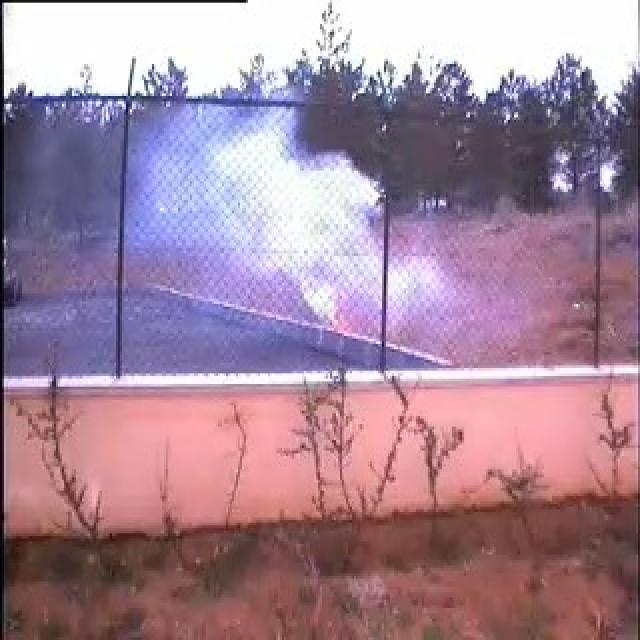smoke: (128, 81, 443, 336)
